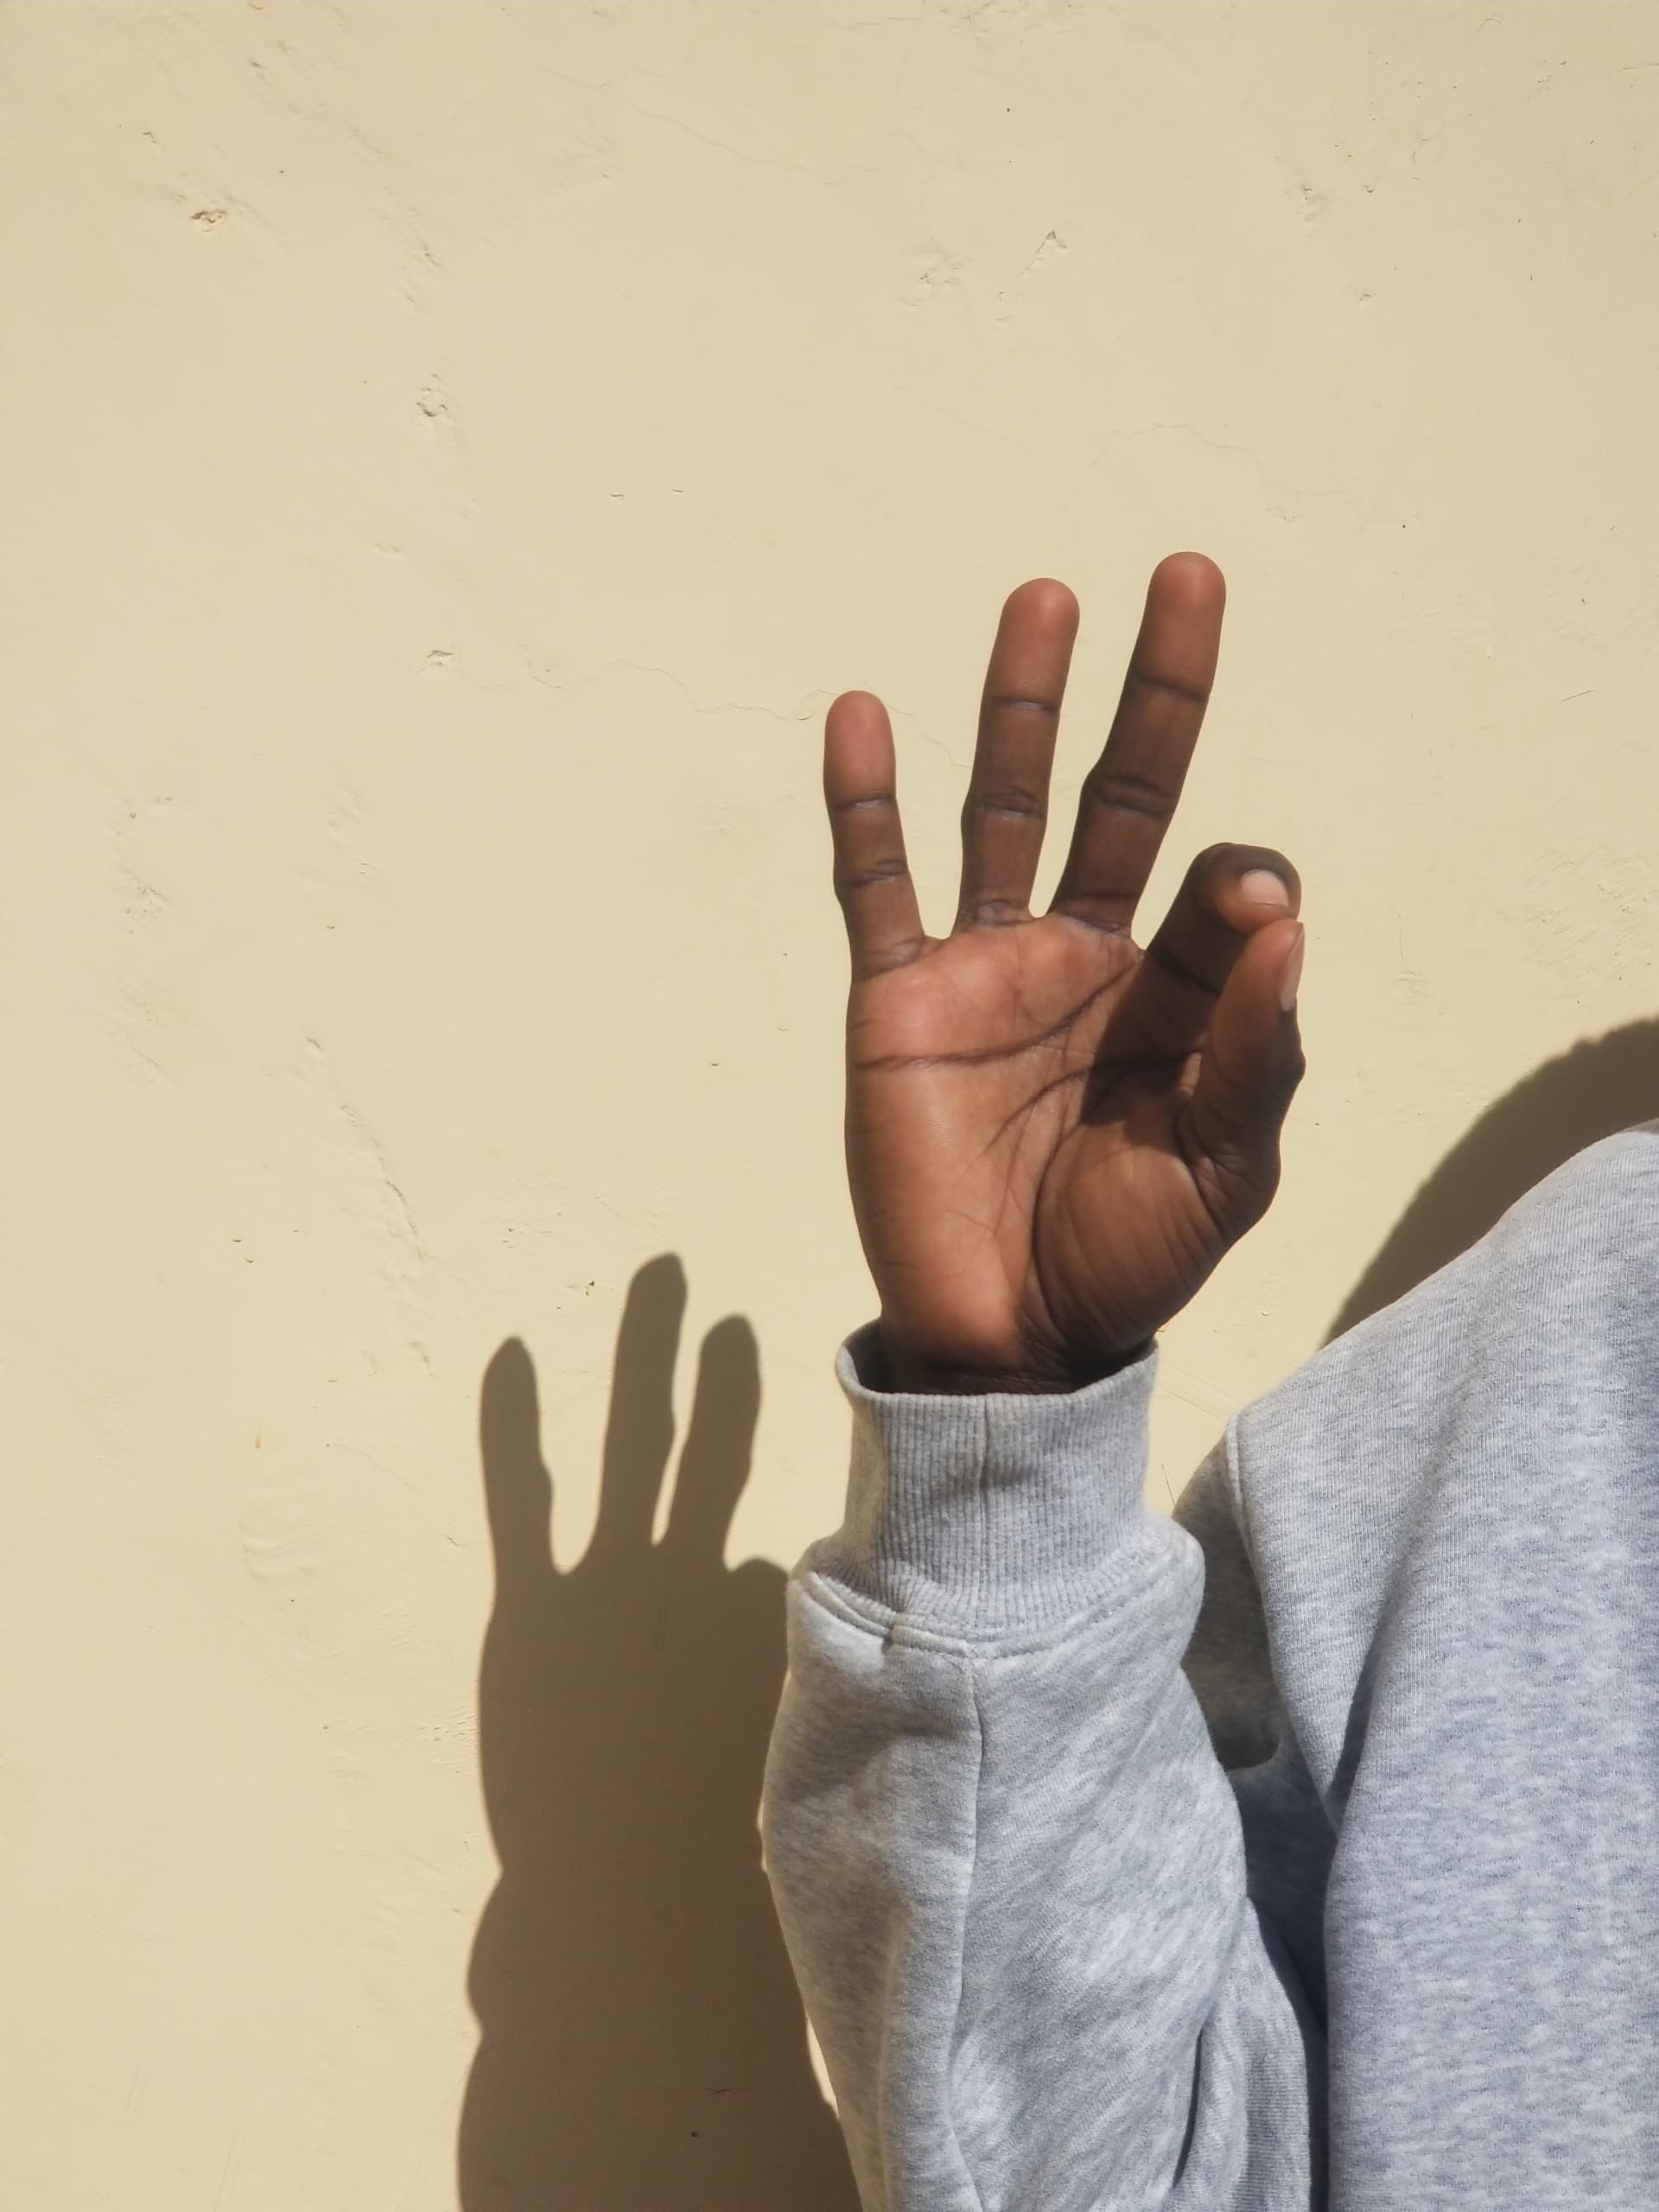okay: (662, 540, 1342, 1609)
